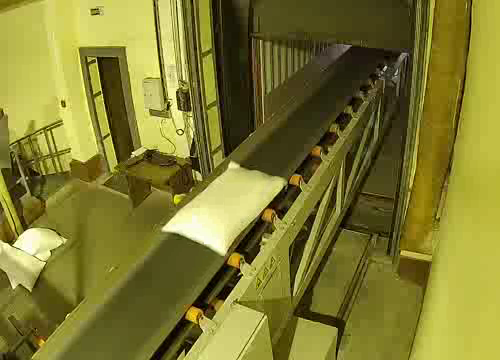bag: (161, 158, 288, 262)
